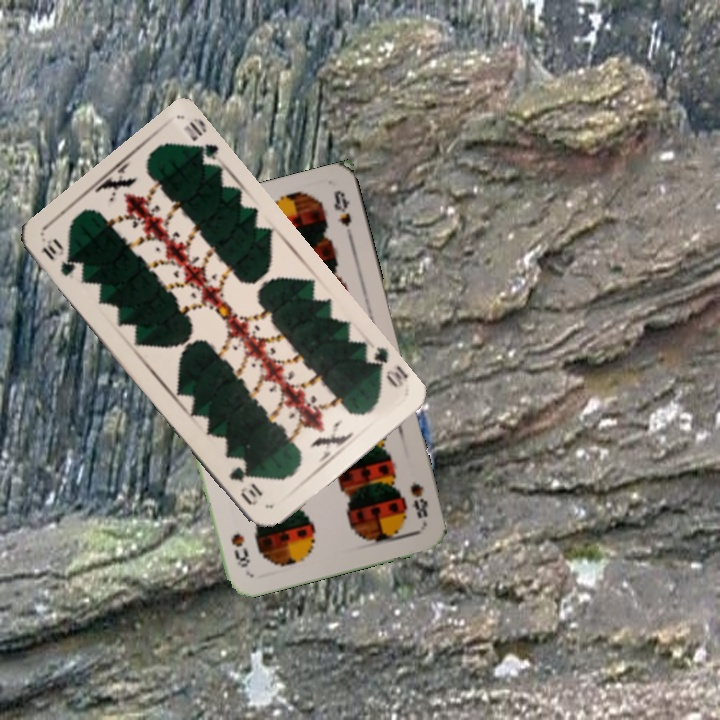G10: (360, 343, 410, 391), (38, 234, 78, 279)
S8: (406, 478, 431, 521)
